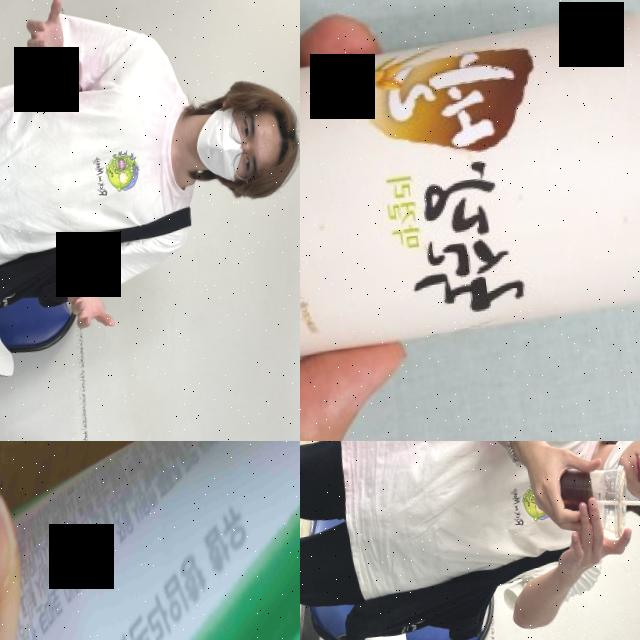can: (300, 0, 640, 377), (0, 441, 300, 640)
cup: (556, 457, 633, 545)
